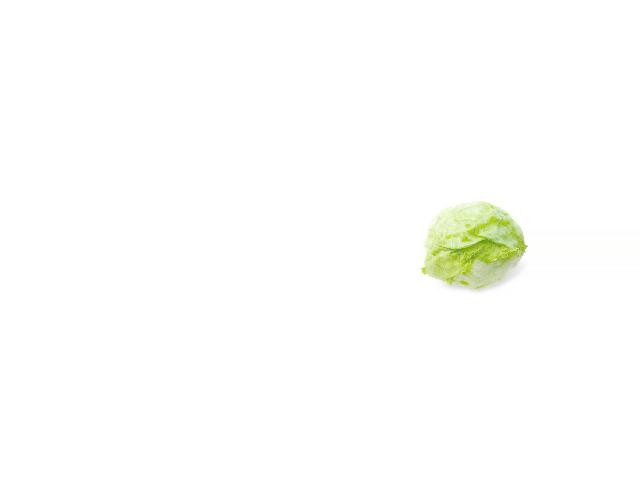lettuce: (422, 194, 525, 294)
